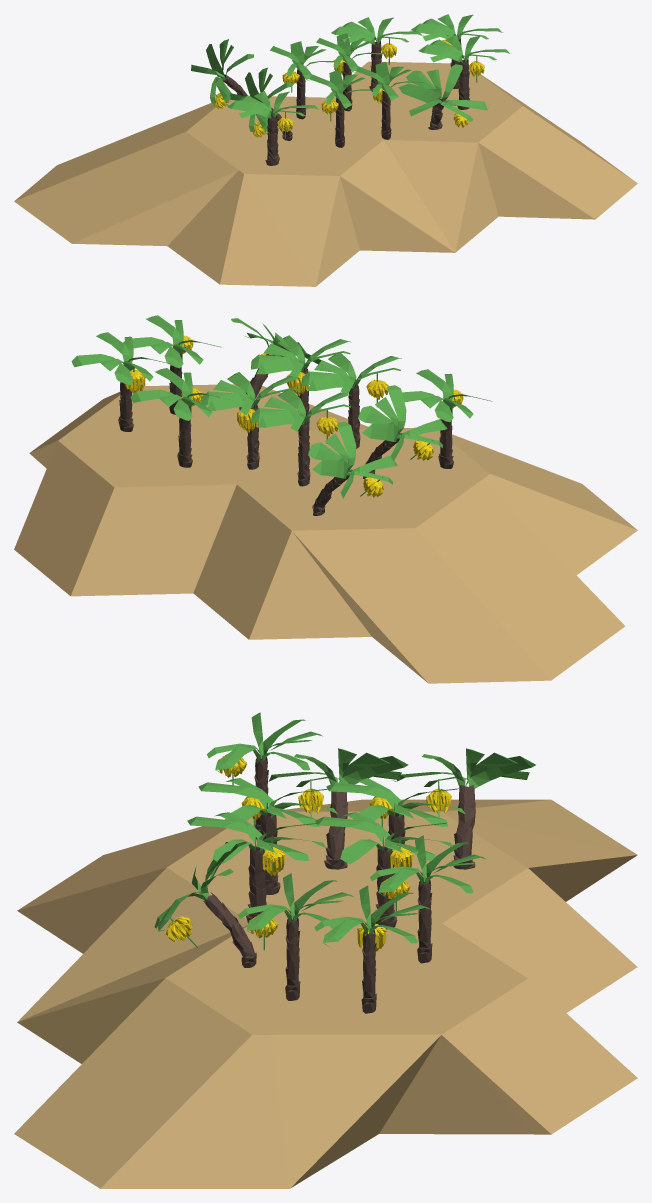
File: insel6.fbx
3 views of the same model, one above another, from view 1: azimuth 30°, elevation 25°; view 2: azimuth 150°, elevation 25°; view 3: azimuth 270°, elevation 25° (orthographic). The views are drawn at different scales.
Parts seen in each view (by area): view 1: Landschaft, Blätter_6, Blätter_18, Blätter, Blätter_8, Blätter_10, Blätter_4, Blätter_12, Blätter_14, Blätter_16, Blätter_20, Blätter_22 (+4 smaller); view 2: Landschaft, Blätter_18, Blätter_12, Blätter_20, Blätter_14, Blätter_22, Blätter_16, Blätter_10, Blätter_4, Blätter_8, Blätter, Stamm_20 (+6 smaller); view 3: Landschaft, Blätter_18, Blätter_12, Blätter_16, Blätter_22, Blätter_20, Blätter, Blätter_4, Blätter_14, Blätter_10, Blätter_8, Stamm_18 (+9 smaller).
Boxes of the visible parts, x1,y1,x2,y2 form: Landschaft: (14, 61, 637, 286); Blätter_6: (398, 64, 488, 121); Blätter_18: (191, 39, 253, 103); Blätter: (227, 91, 319, 118); Blätter_8: (418, 35, 510, 62); Blätter_10: (411, 14, 503, 41); Blätter_4: (331, 17, 423, 44); Blätter_12: (230, 67, 292, 131); Blätter_14: (309, 70, 381, 109); Blätter_16: (355, 62, 427, 101); Blätter_20: (270, 41, 342, 80); Blätter_22: (316, 33, 388, 72); Landschaft: (14, 384, 637, 683); Blätter_18: (308, 422, 397, 498); Blätter_12: (358, 385, 447, 460); Blätter_20: (251, 390, 351, 431); Blätter_14: (301, 352, 401, 394); Blätter_22: (201, 372, 301, 415); Blätter_16: (251, 335, 351, 377); Blätter_10: (71, 332, 172, 385); Blätter_4: (130, 368, 230, 420); Blätter_8: (123, 315, 221, 368); Blätter: (402, 369, 492, 422); Stamm_20: (297, 421, 310, 486); Landschaft: (14, 799, 637, 1188); Blätter_18: (393, 748, 535, 788); Blätter_12: (268, 748, 408, 786); Blätter_16: (187, 812, 326, 863); Blätter_22: (315, 812, 452, 864); Blätter_20: (326, 778, 465, 826); Blätter: (207, 712, 322, 773); Blätter_4: (370, 835, 486, 896); Blätter_14: (198, 778, 337, 826); Blätter_10: (314, 885, 430, 946); Blätter_8: (238, 873, 353, 934); Stamm_18: (452, 785, 475, 869).
Bounding box in the file's own units: 10421 × 2580 × 7062.
Materials: 4 (3 with a texture image).
